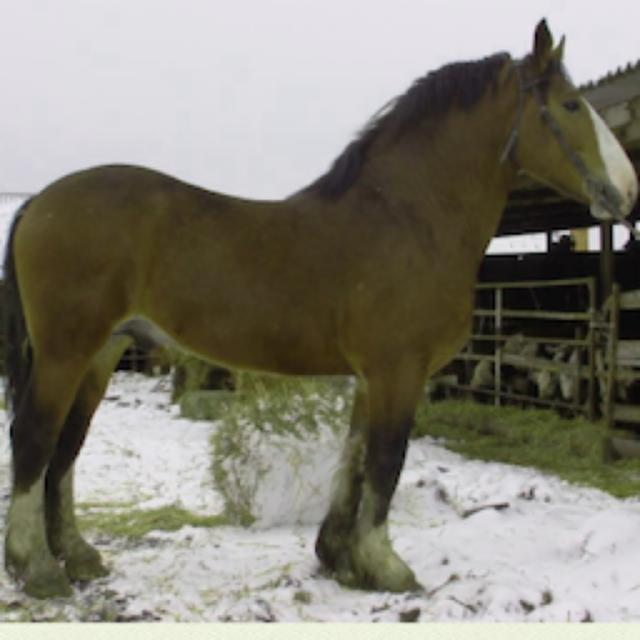Horse: (2, 15, 640, 603)
